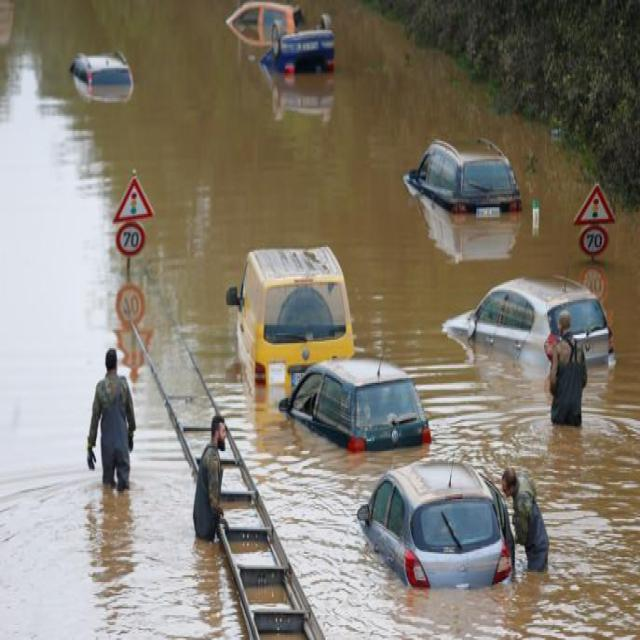water: (3, 1, 637, 355), (236, 220, 638, 639), (2, 216, 292, 637)
